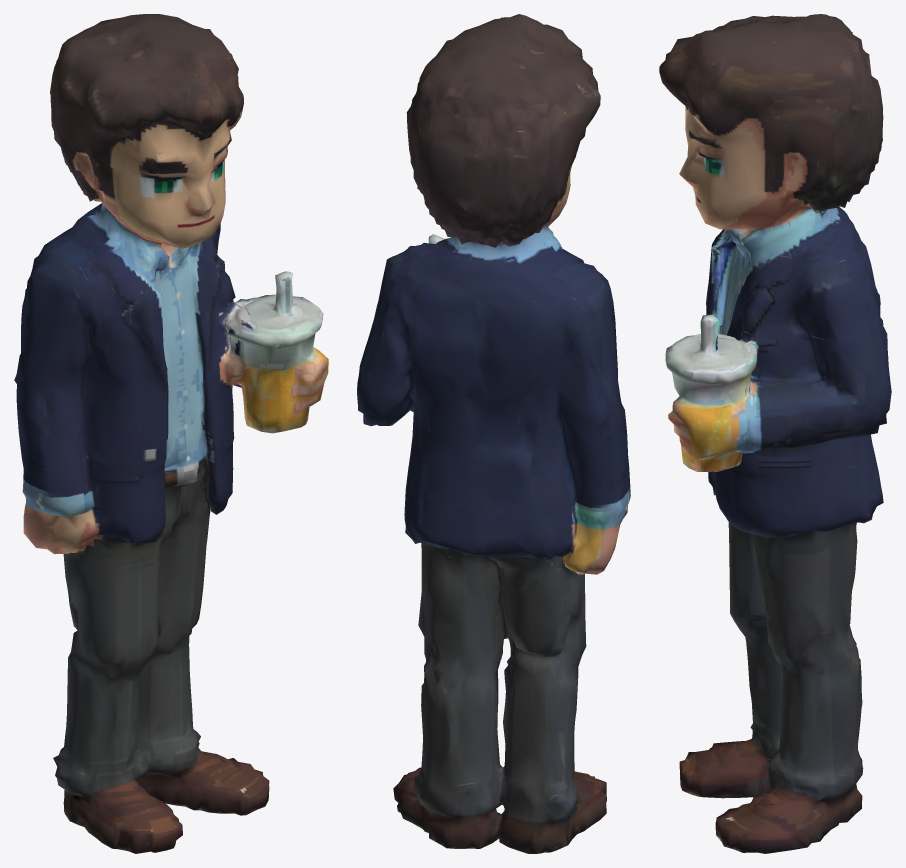
Rendered from trader.glb.
3 views of the same model, side by side, from view 1: azimuth 30°, elevation 25°; view 2: azimuth 150°, elevation 25°; view 3: azimuth 270°, elevation 25° (orthographic).
Size of the model in its own units: 0.7026 by 2.01 by 0.5421.
Materials: 1 (1 with a texture image).
